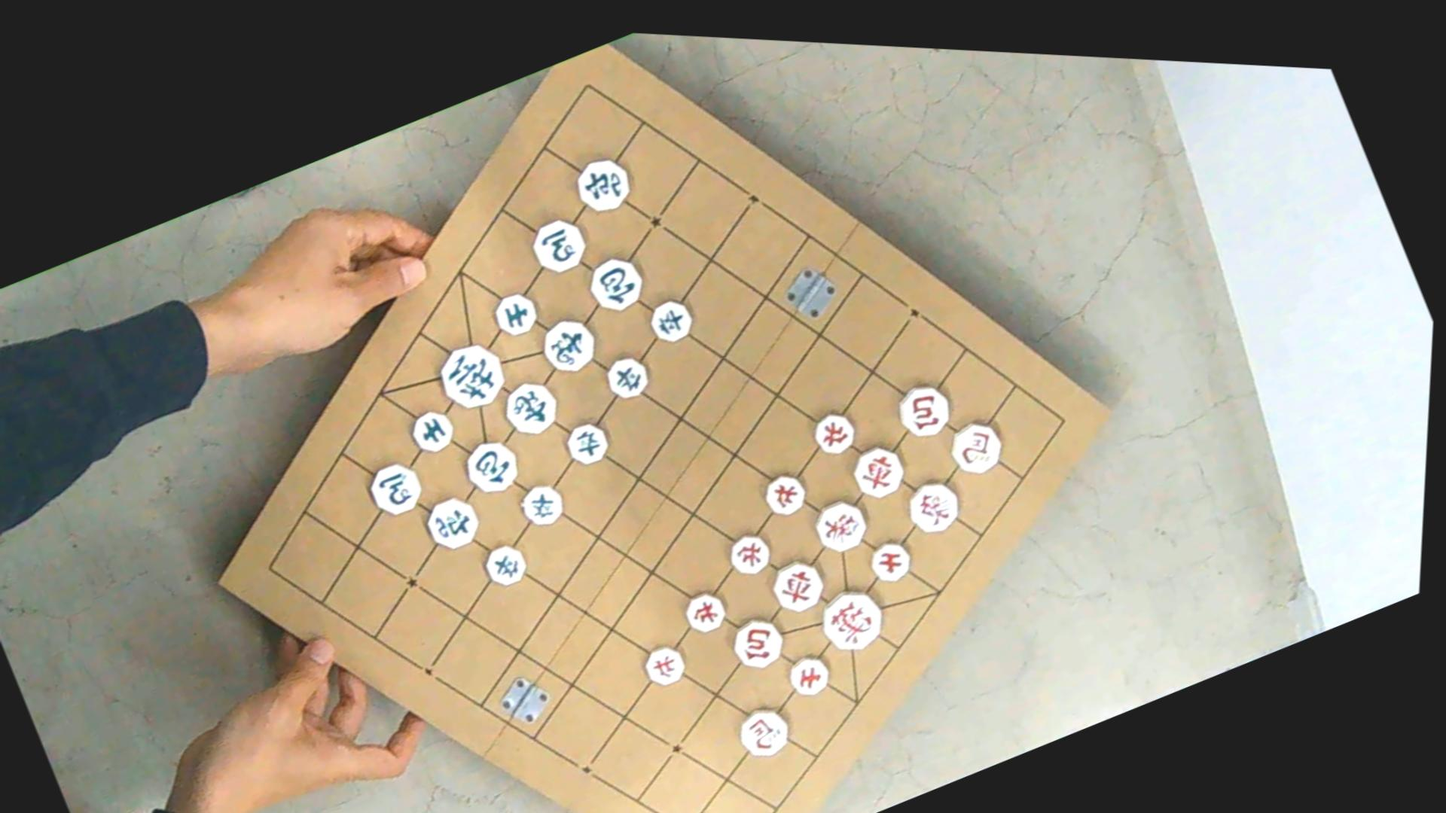cha_green: (569, 151, 639, 221), (418, 489, 485, 557)
cha_red: (764, 553, 831, 620), (845, 438, 911, 506)
jol_green: (478, 538, 533, 593), (644, 294, 698, 349), (600, 350, 654, 405), (515, 478, 570, 532), (561, 418, 615, 470)
jol_red: (757, 468, 813, 522), (807, 407, 861, 461), (679, 586, 732, 639), (724, 528, 776, 581), (639, 641, 690, 692)
ma_green: (525, 212, 593, 280), (362, 455, 429, 522)
ma_red: (942, 414, 1011, 482), (731, 701, 797, 766)
po_green: (581, 249, 651, 321), (456, 432, 526, 502)
po_red: (889, 376, 959, 446), (725, 611, 790, 676)
sa_green: (488, 288, 542, 342), (406, 406, 459, 458)
sa_red: (782, 650, 836, 703), (865, 535, 917, 589)
sang_green: (533, 311, 604, 382), (496, 373, 566, 443)
sang_red: (899, 473, 967, 542), (807, 493, 875, 559)
wang_green: (431, 336, 514, 419)
wang_red: (812, 580, 892, 660)
